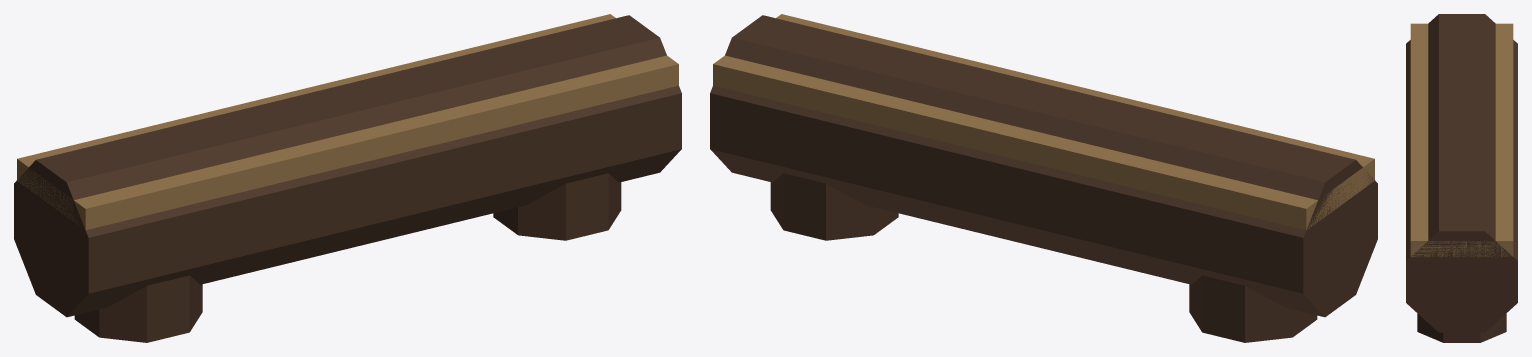
File: LogBench.glb
3 views of the same model, side by side, from view 1: azimuth 30°, elevation 25°; view 2: azimuth 150°, elevation 25°; view 3: azimuth 270°, elevation 25° (orthographic). The views are drawn at different scales.
Visible parts, largest first — view 1: LogBench; view 2: LogBench; view 3: LogBench.
Boxes of the visible parts, x1,y1,x2,y2 form: LogBench: [14, 14, 681, 342]; LogBench: [710, 14, 1377, 342]; LogBench: [1406, 14, 1517, 342].
Bounding box in the file's own units: 1.7 × 0.4548 × 0.3696.
